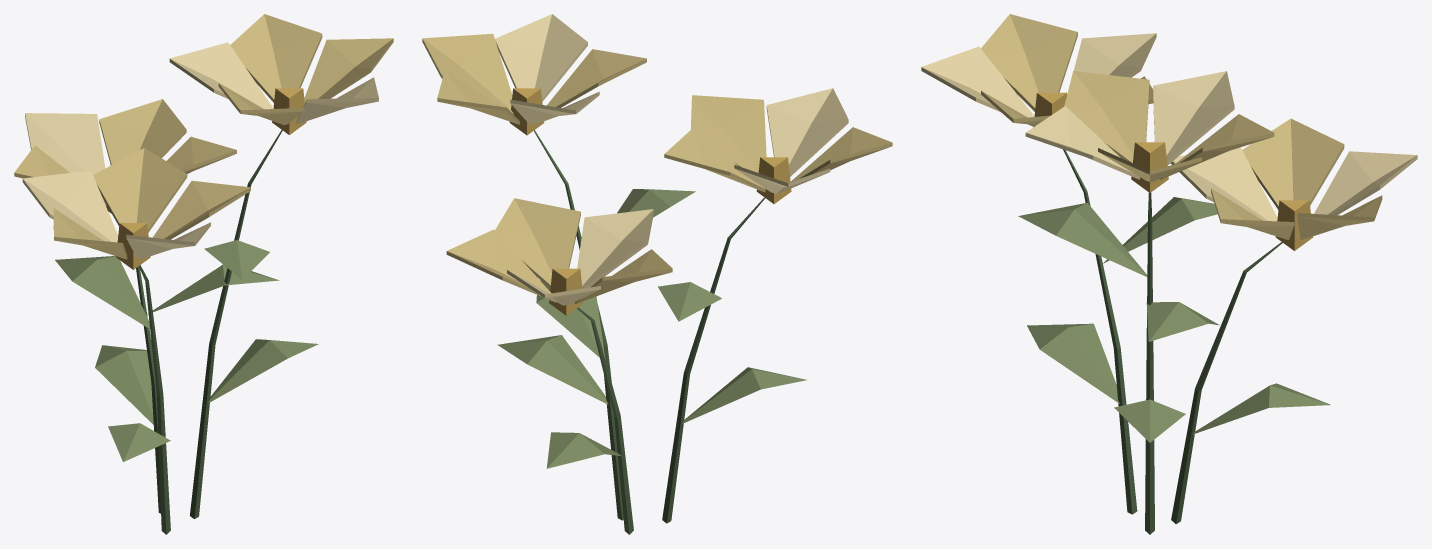
The model's file is DESERT_BLOOM.shadow.glb.
3 renders of one model, left to right at view 1: azimuth 30°, elevation 25°; view 2: azimuth 150°, elevation 25°; view 3: azimuth 270°, elevation 25°, orthographic. The views are drawn at different scales.
Visible parts, largest first — view 1: DESERT_BLOOM; view 2: DESERT_BLOOM; view 3: DESERT_BLOOM.
Part boxes in pixels (x1,y1,x2,y2): DESERT_BLOOM: [14, 14, 393, 534]; DESERT_BLOOM: [422, 14, 892, 534]; DESERT_BLOOM: [921, 14, 1417, 534].
Size of the model in its own units: 0.3489 by 0.3555 by 0.3421.
Materials: 1 (1 with a texture image).
